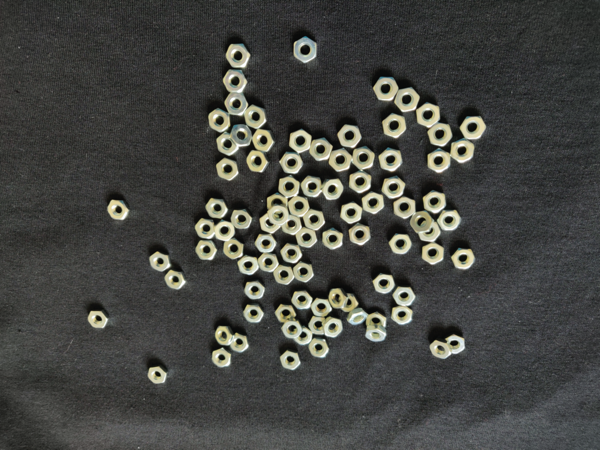nut: (459, 116, 487, 140), (427, 123, 454, 147), (294, 36, 317, 64), (374, 76, 399, 101), (395, 87, 420, 112), (225, 44, 251, 68), (451, 138, 475, 163), (423, 190, 447, 215), (417, 102, 440, 128), (383, 114, 407, 138), (338, 124, 362, 148), (309, 137, 333, 161), (379, 148, 403, 172), (428, 148, 451, 173), (410, 211, 435, 234), (225, 93, 249, 116), (244, 105, 267, 129), (289, 129, 312, 153), (252, 129, 276, 152), (216, 158, 240, 181), (329, 148, 352, 172), (352, 146, 375, 170), (382, 176, 406, 199), (223, 70, 248, 92), (217, 132, 239, 157), (208, 109, 231, 132), (230, 125, 253, 148), (247, 150, 270, 173), (349, 171, 372, 194), (362, 192, 385, 215), (451, 249, 476, 270), (278, 175, 300, 198), (394, 197, 416, 220), (340, 202, 363, 224), (295, 227, 318, 249), (349, 223, 372, 245), (422, 243, 445, 265), (280, 153, 304, 174), (437, 211, 462, 231), (419, 221, 441, 243), (107, 200, 130, 221), (321, 179, 344, 200), (389, 234, 413, 254), (393, 286, 417, 306), (206, 198, 228, 219), (301, 176, 322, 198), (267, 193, 288, 215), (289, 196, 310, 218), (304, 209, 325, 231), (260, 212, 281, 234), (281, 214, 303, 235), (322, 228, 343, 250), (214, 220, 236, 241), (224, 238, 245, 260), (238, 255, 260, 276), (293, 262, 315, 283), (373, 274, 395, 295), (430, 339, 452, 360), (195, 240, 218, 260), (280, 244, 303, 264), (281, 319, 304, 339), (268, 204, 289, 225), (322, 317, 343, 338), (150, 252, 172, 272), (165, 270, 187, 290), (273, 265, 295, 285), (258, 253, 279, 273), (280, 351, 301, 371), (231, 210, 253, 229), (255, 234, 277, 253), (244, 281, 266, 300), (391, 306, 413, 325), (275, 304, 297, 323), (311, 298, 333, 317), (195, 219, 215, 239), (215, 326, 235, 346), (329, 289, 349, 309), (339, 293, 359, 313), (88, 310, 109, 329), (292, 291, 313, 310), (309, 339, 330, 358), (243, 305, 265, 323), (346, 308, 369, 325), (212, 349, 232, 368), (446, 335, 466, 354), (230, 334, 249, 353), (308, 316, 327, 335), (293, 327, 313, 345), (366, 312, 387, 329), (366, 325, 387, 342), (148, 367, 168, 384)
